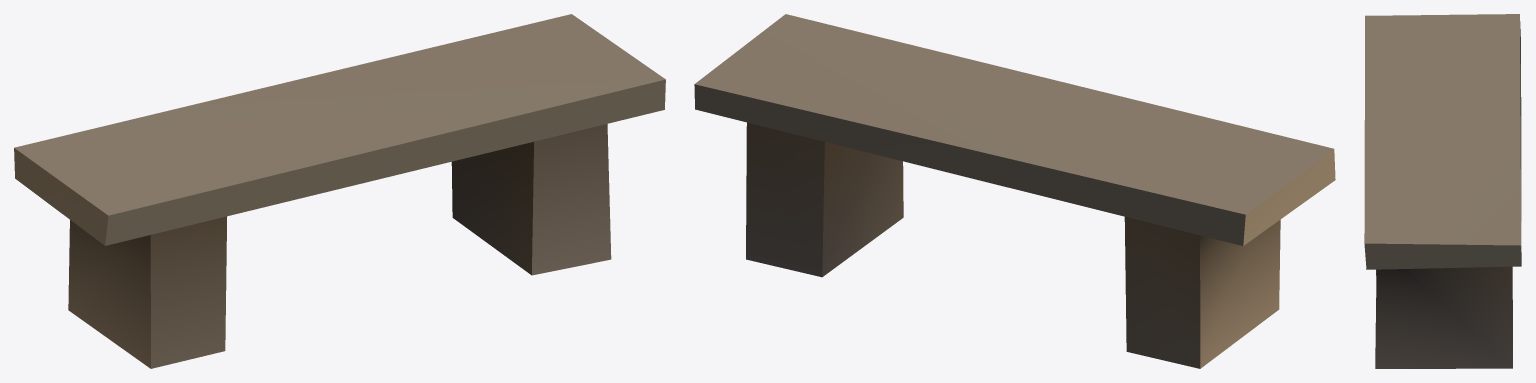
Rendered from banco_piedra.glb.
3 renders of one model, left to right at view 1: azimuth 30°, elevation 25°; view 2: azimuth 150°, elevation 25°; view 3: azimuth 270°, elevation 25°, orthographic. The views are drawn at different scales.
Parts seen in each view (by area): view 1: banco_piedra_piezas; view 2: banco_piedra_piezas; view 3: banco_piedra_piezas.
Part boxes in pixels (bbox=[...]): banco_piedra_piezas: bbox=[14, 14, 665, 368]; banco_piedra_piezas: bbox=[694, 14, 1335, 368]; banco_piedra_piezas: bbox=[1364, 14, 1521, 368].
Size of the model in its own units: 1.61 by 0.4778 by 0.4656.
